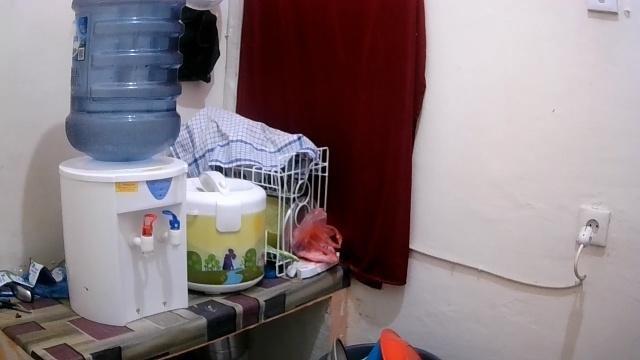Dispenser: (57, 0, 188, 326)
